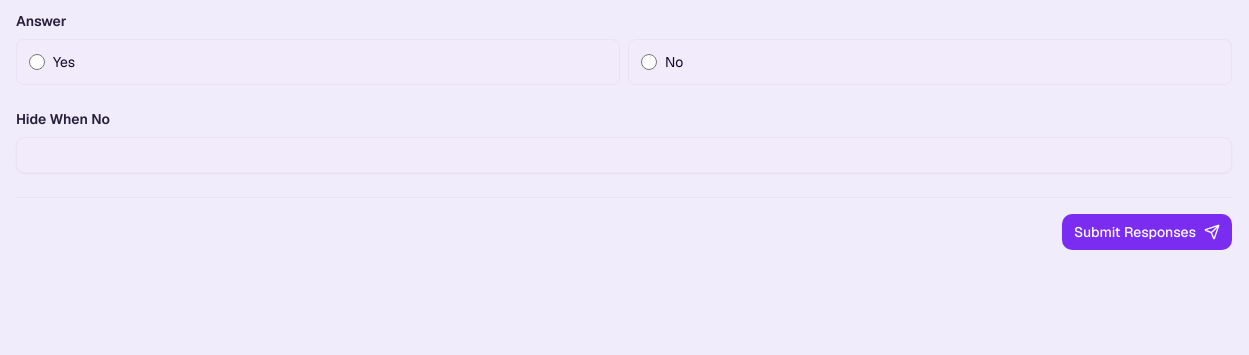
Test: DynamicSurveyForm › hides and reveals fields with simple conditional logic through visibility-changing controls
The width and height of the screenshot is (1249, 355).
Expected: the field labelled "Details" is not shown
Click the radio button labelled "Yes": x=37, y=62 top-left (29, 54), bottom-right (45, 70)
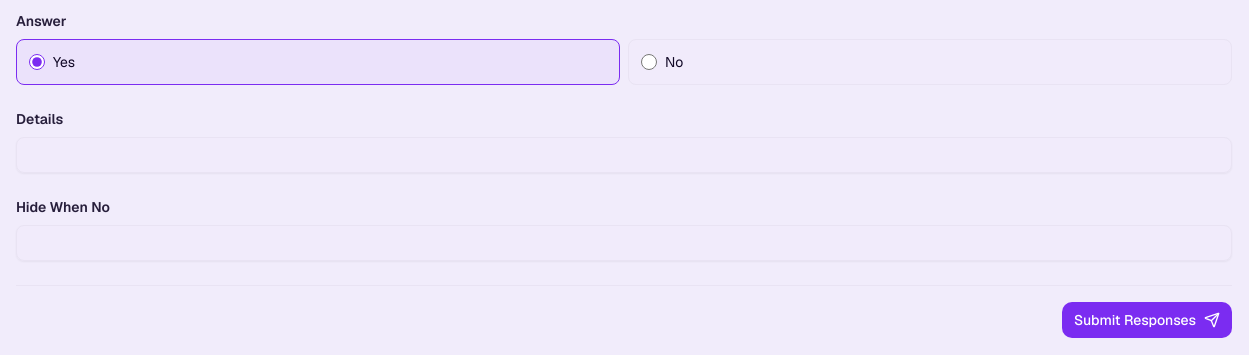
Click the radio button labelled "No": x=649, y=62 top-left (641, 54), bottom-right (657, 70)
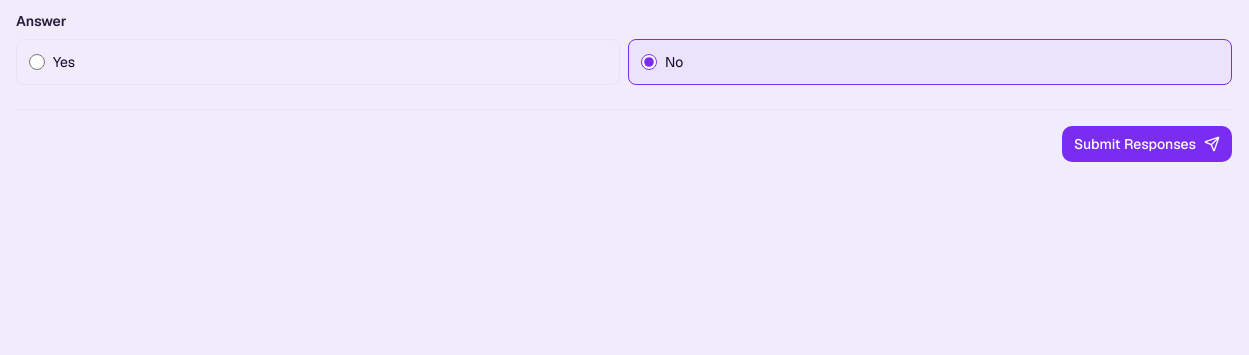
Result: the label labelled "Details" is gone
Result: the label labelled "Hide When No" is gone
